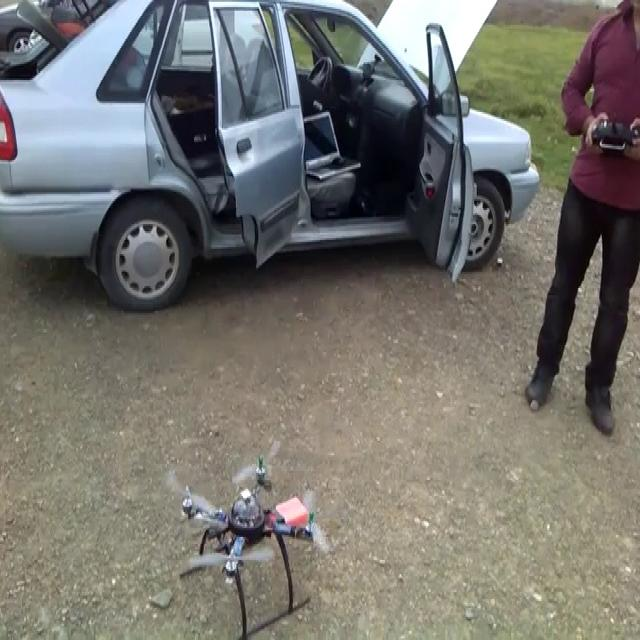drone: (168, 438, 333, 638)
